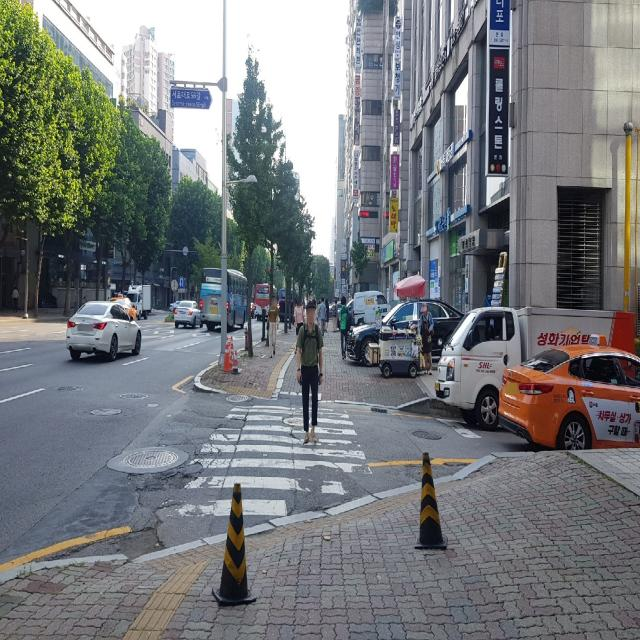횡단보도: (160, 405, 373, 518)
